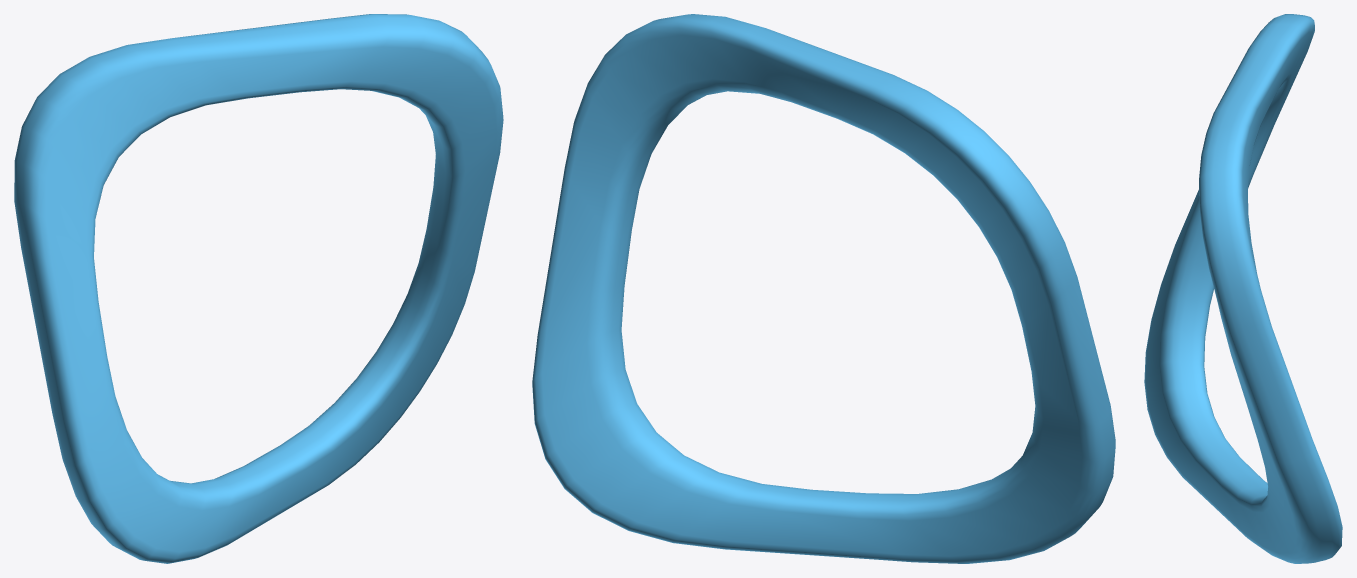
Rendered from loading.glb.
The picture shows the model from 3 angles, left to right: view 1: azimuth 30°, elevation 25°; view 2: azimuth 150°, elevation 25°; view 3: azimuth 270°, elevation 25°; orthographic projection. The views are drawn at different scales.
Parts seen in each view (by area): view 1: loading; view 2: loading; view 3: loading.
Boxes of the visible parts, left/top/right/bottom form: loading: left=14, top=14, right=503, bottom=563; loading: left=532, top=14, right=1115, bottom=563; loading: left=1144, top=14, right=1342, bottom=563.
Bounding box in the file's own units: 0.4268 × 0.4144 × 0.1691.
